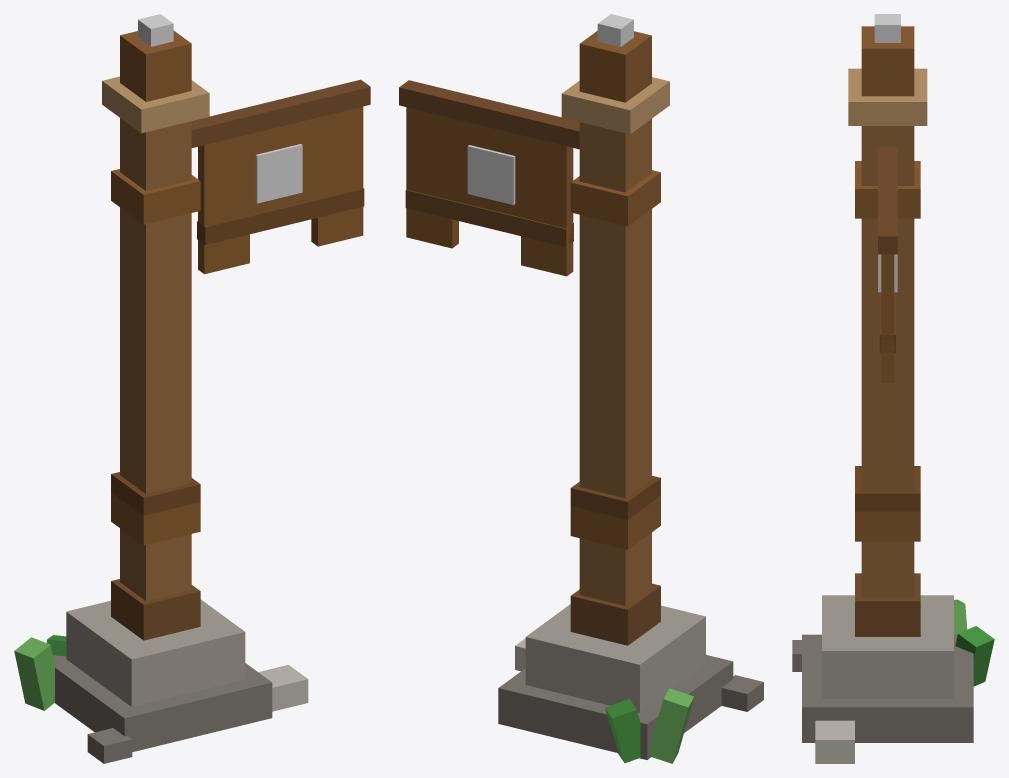
Rendered from territory-marker-bear.glb.
The picture shows the model from 3 angles, left to right: view 1: azimuth 30°, elevation 25°; view 2: azimuth 150°, elevation 25°; view 3: azimuth 270°, elevation 25°; orthographic projection.
Visible parts, largest first — view 1: marker-post, banner; view 2: marker-post, banner; view 3: marker-post, banner.
Part boxes in pixels (bbox=[...]): marker-post: bbox=[14, 14, 308, 763]; banner: bbox=[191, 79, 370, 274]; marker-post: bbox=[498, 14, 763, 763]; banner: bbox=[399, 80, 579, 276]; marker-post: bbox=[792, 14, 994, 763]; banner: bbox=[878, 147, 897, 382].
Bounding box in the file's own units: 0.5581 × 1.15 × 0.3071.
